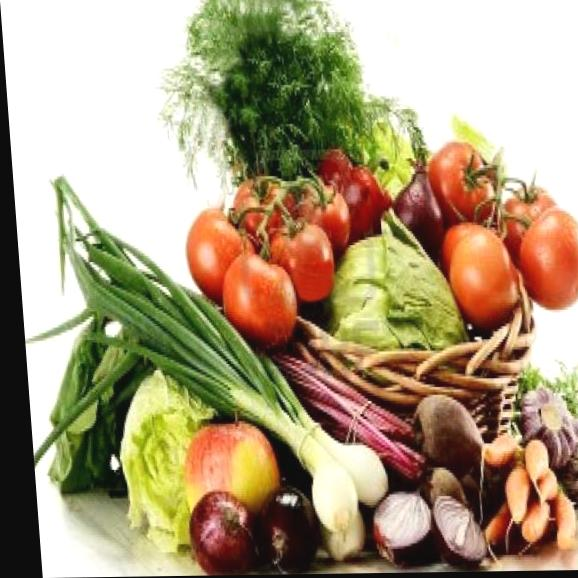Tomato: (437, 229, 536, 332), (217, 234, 306, 347), (180, 198, 275, 302), (275, 211, 344, 307), (516, 212, 578, 315)
